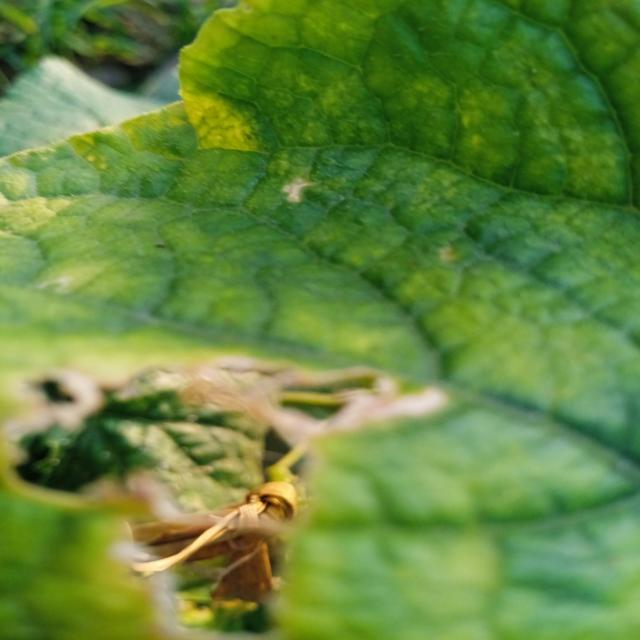cucumber_anthracnose: (19, 18, 411, 626)
